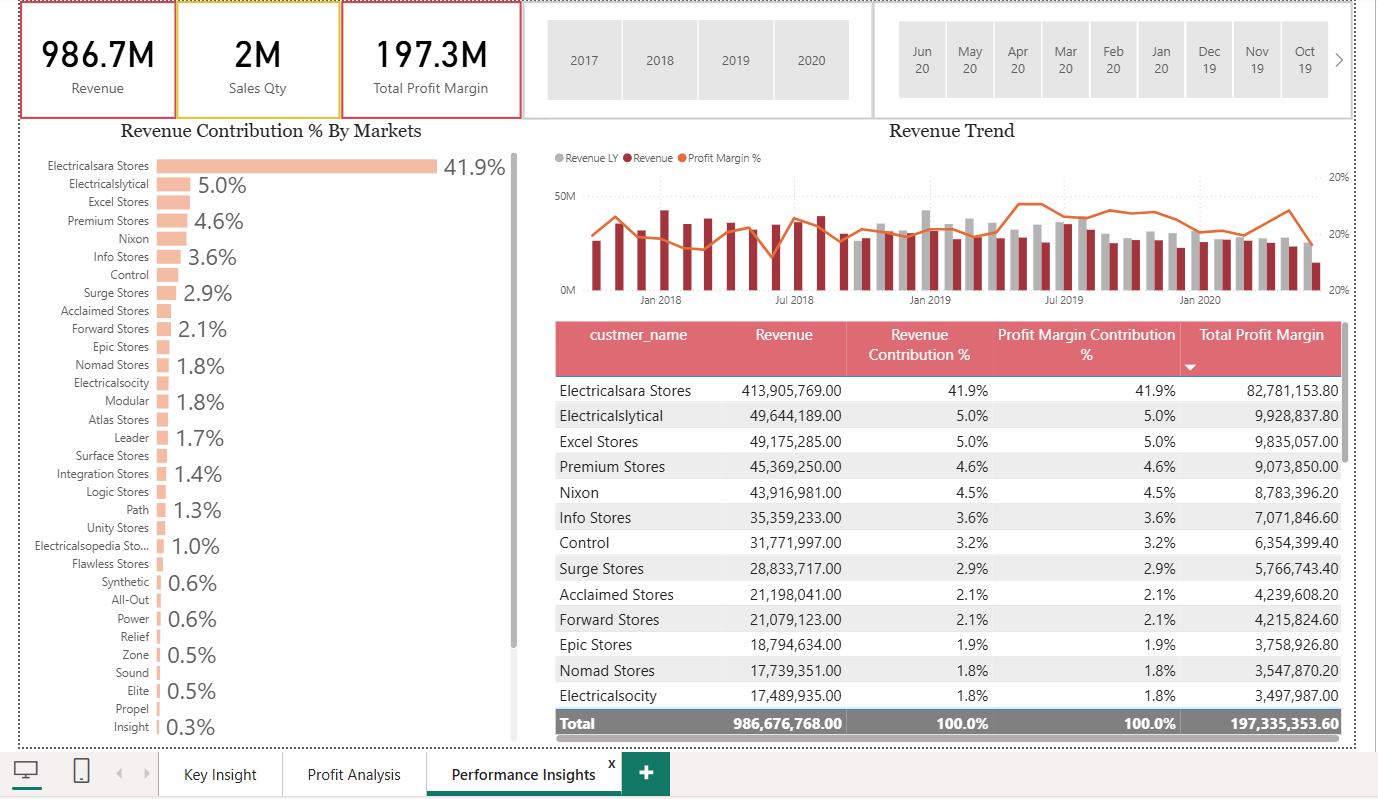

The dashboard page shown, as its layout file describes it:
{"tool":"powerbi","page":{"name":"Performance Insights","canvas":[1520,850],"ordinal":2},"visuals":[{"type":"card","fields":{"Values":["base measures.Revenue"]},"box":[0,0,178.5,134.3],"z":0},{"type":"slicer","fields":{"Values":["sales date.year"]},"box":[571.9,0,400,135.1],"z":2000},{"type":"slicer","fields":{"Values":["sales date.cy_date"]},"box":[971.9,0,547.4,135.1],"z":3000},{"type":"tableEx","title":"Top 5 Customers","fields":{"Values":["sales customers.custmer_name","base measures.Revenue","base measures.Revenue Contribution %","base measures.Profit Margin Contribution %","base measures.Total Profit Margin"]},"box":[603.5,359.6,915.8,489.5],"z":4000},{"type":"lineClusteredColumnComboChart","title":"Revenue Trend","fields":{"Category":["sales date.cy_date"],"Y":["base measures.Revenue LY","base measures.Revenue"],"Y2":["base measures.Profit Margin %"]},"box":[603.5,135.1,915.8,224.6],"z":5000},{"type":"card","fields":{"Values":["base measures.Total Profit Margin"]},"box":[365.5,0,205.7,134.3],"z":6000},{"type":"card","fields":{"Values":["base measures.Sales Qty"]},"box":[178.5,0,187,134.3],"z":7000},{"type":"barChart","title":"Revenue Contribution % By Markets","fields":{"Category":["sales customers.custmer_name","sales markets.markets_name","sales markets.zone"],"Y":["base measures.Revenue Contribution %"]},"box":[0,135.1,571.9,714],"z":8001}]}

Visuals, with their boxes on the page's 1520x850 design canvas (x1, y1, x2, y2). These are canvas units, not pixel positions in the 1378x799 screenshot, which may show the page scaled, cropped or inside an application window:
card - base measures.Revenue: [left=0, top=0, right=178, bottom=134]
slicer - sales date.year: [left=572, top=0, right=972, bottom=135]
slicer - sales date.cy_date: [left=972, top=0, right=1519, bottom=135]
"Top 5 Customers" tableEx: [left=604, top=360, right=1519, bottom=849]
"Revenue Trend" lineClusteredColumnComboChart: [left=604, top=135, right=1519, bottom=360]
card - base measures.Total Profit Margin: [left=366, top=0, right=571, bottom=134]
card - base measures.Sales Qty: [left=178, top=0, right=366, bottom=134]
"Revenue Contribution % By Markets" barChart: [left=0, top=135, right=572, bottom=849]
